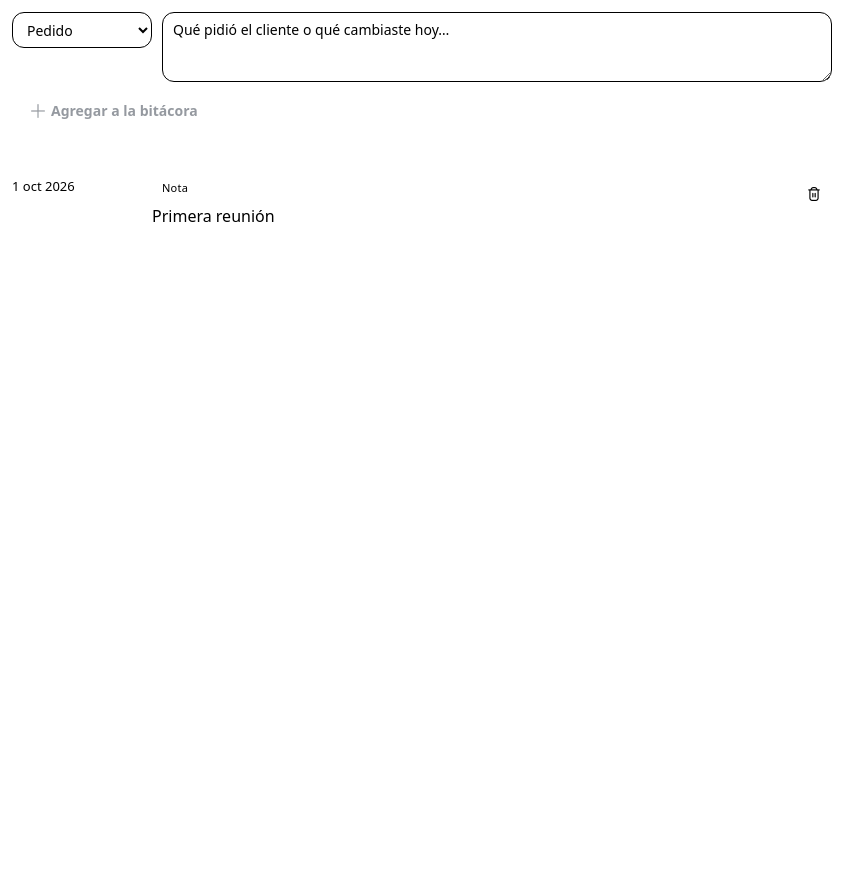
Test case: NoteLog optimista › la entrada aparece arriba al instante y se confirma con la respuesta
Type "Cambió el logo" into the text box named "Entrada de la bitácora". click: [497, 47]
box: [162,12,832,82]
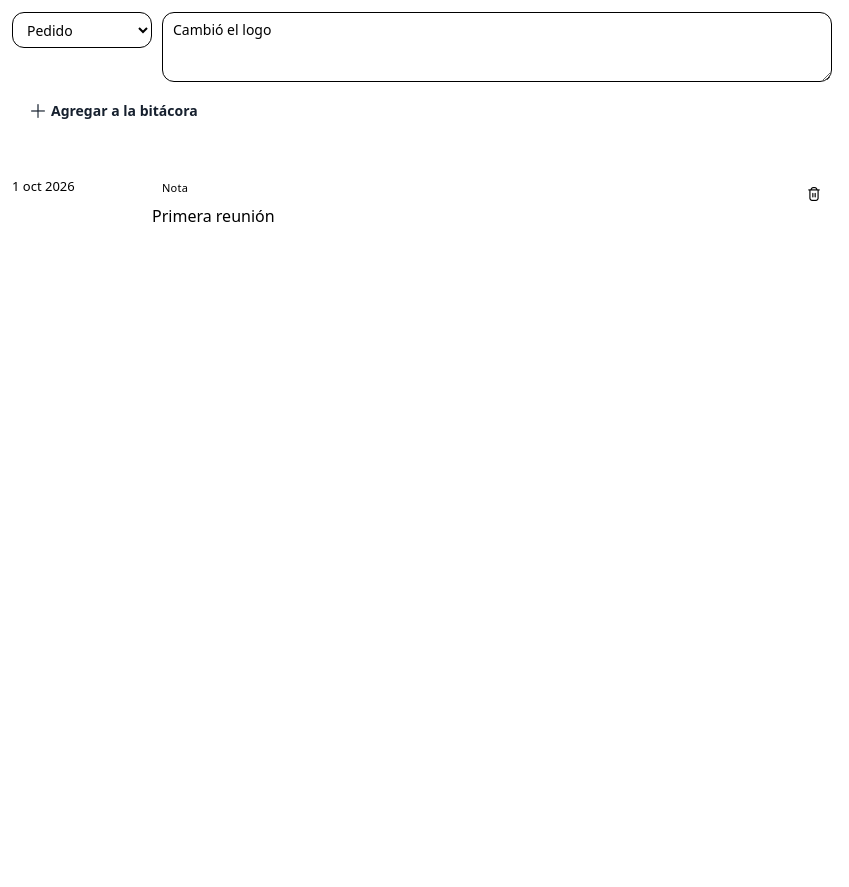
Click the button "Agregar a la bitácora". click: [114, 111]
box: [12,92,217,131]
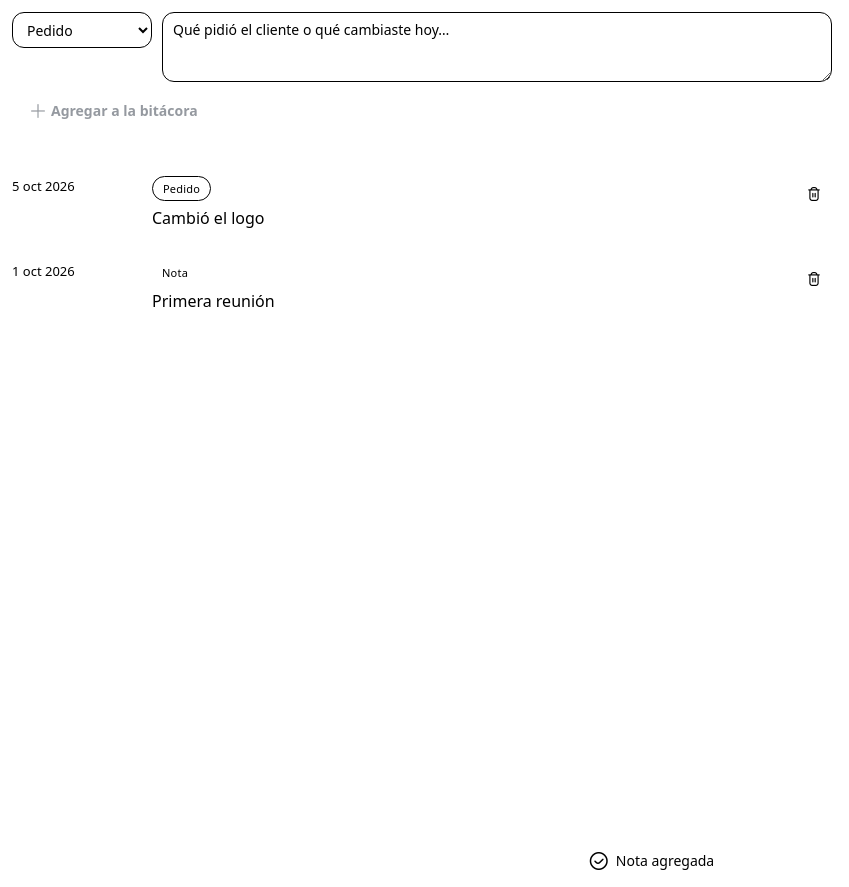
Expected: the number of list items is 2, [12,161,832,246]; [12,246,832,328]
Expected: the text box named "Entrada de la bitácora" is empty, [162,12,832,82]
